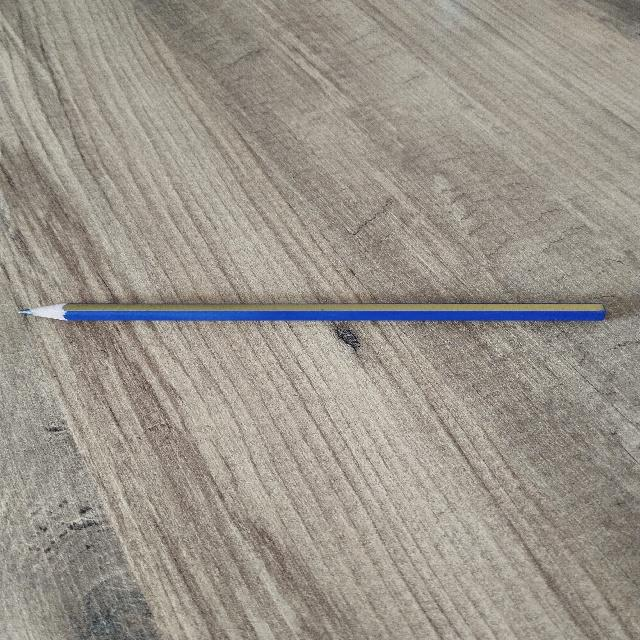pencil: (21, 303, 604, 320)
